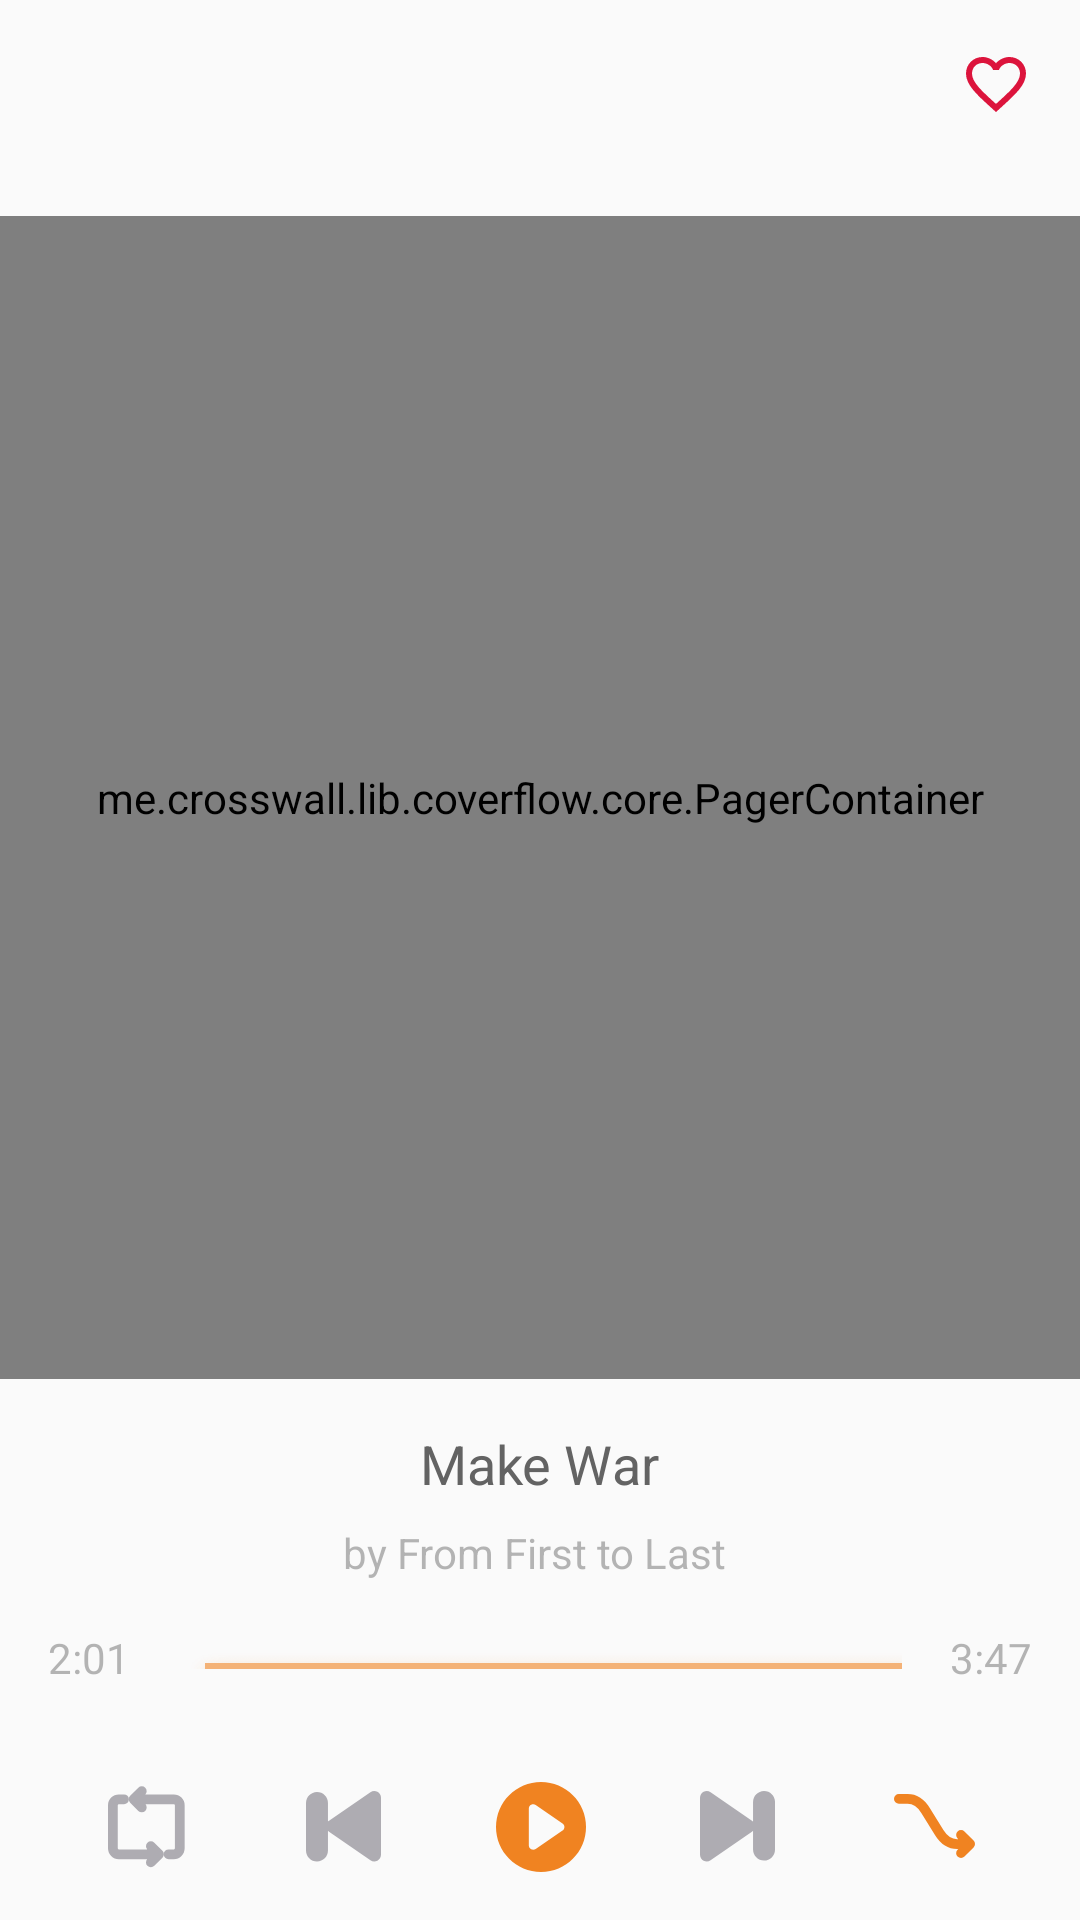

Named icons in this screenshot (1080×1920) and their bounding boxes, (x1, y1, x2, y2):
favorite border: (966, 57, 1026, 112)
next: (700, 1791, 775, 1862)
play: (496, 1782, 586, 1872)
prev: (306, 1791, 381, 1862)
repeat: (108, 1786, 185, 1867)
